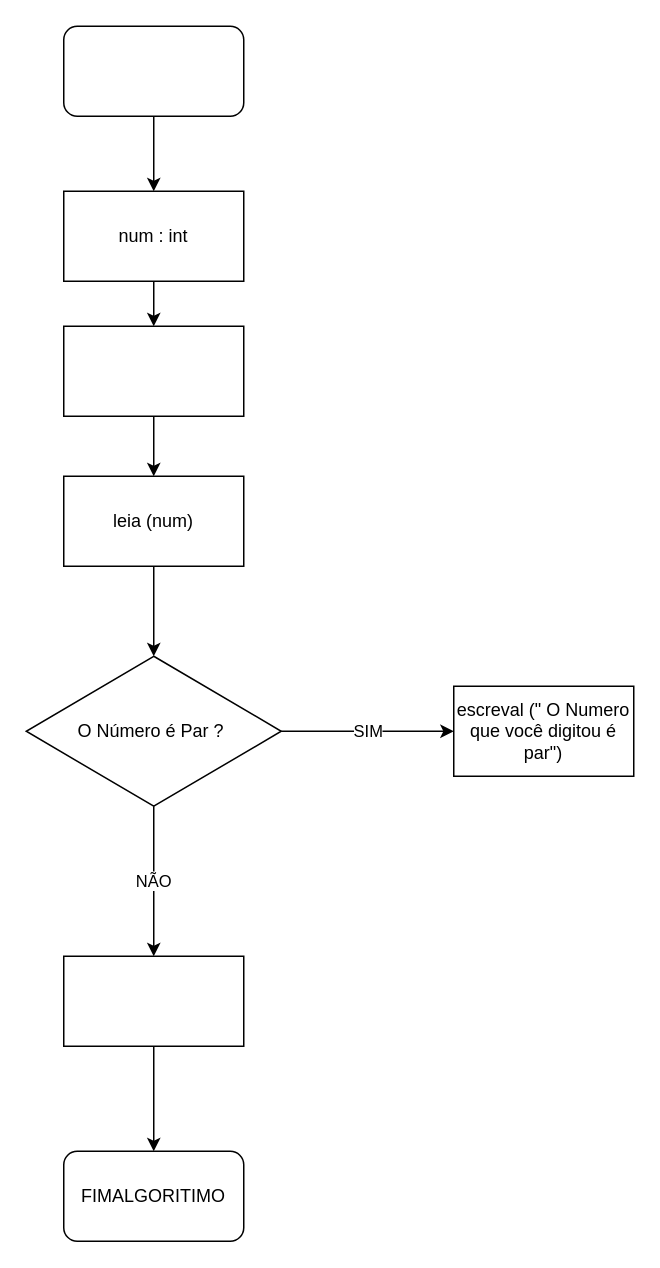
This 660x1268 diagram has some shape labels left out. Here are the shapes that lost their labels. From the top down, the centre of each, then its label:
point 153,70: INICIO
point 153,370: escreval ("Digite o número")
point 153,1000: escreval ("O Número que você digitou é ímpar")
